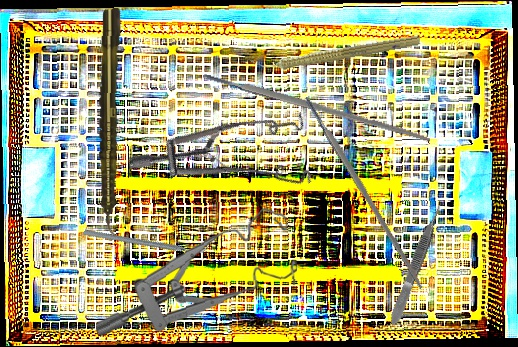Chopper: (82, 184, 210, 297)
Handpiece: (248, 28, 422, 78), (97, 7, 122, 237)
Scalpel Handle: (303, 94, 426, 291), (202, 69, 432, 145)
Speculum: (126, 68, 335, 259), (89, 206, 301, 339)
Tissue Forceps: (385, 201, 448, 328)
